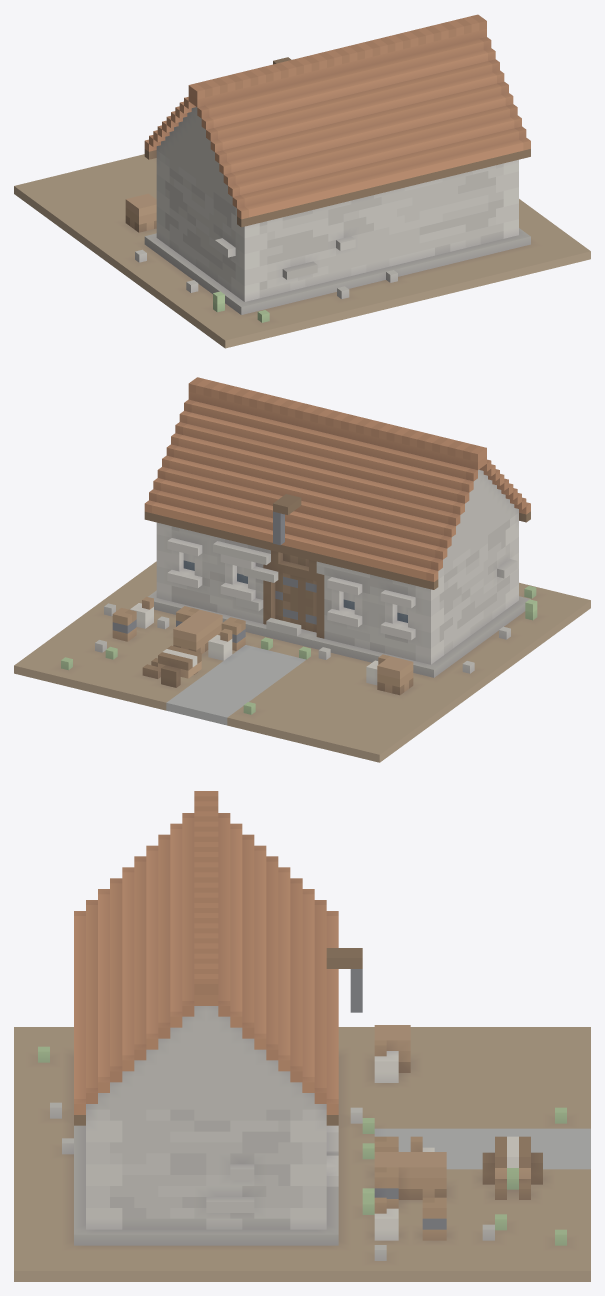
Rendered from warehouse.l2.glb.
The picture shows the model from 3 angles, top to bottom: view 1: azimuth 30°, elevation 25°; view 2: azimuth 150°, elevation 25°; view 3: azimuth 270°, elevation 25°; orthographic projection. The views are drawn at different scales.
Parts seen in each view (by area): view 1: warehouse; view 2: warehouse; view 3: warehouse.
Boxes of the visible parts, x1,y1,x2,y2 form: warehouse: (14,14,590,348); warehouse: (14,377,590,762); warehouse: (14,791,590,1281).
Bounding box in the file's own units: 6 × 3.12 × 6.
